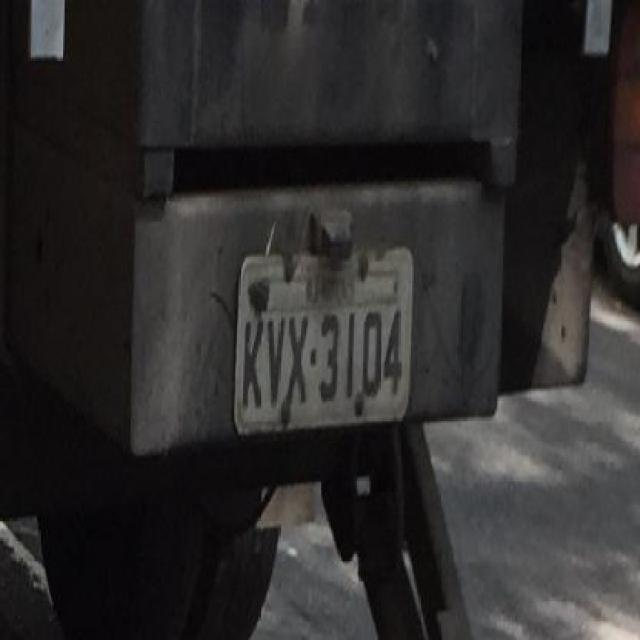old_plate: (228, 243, 418, 446)
